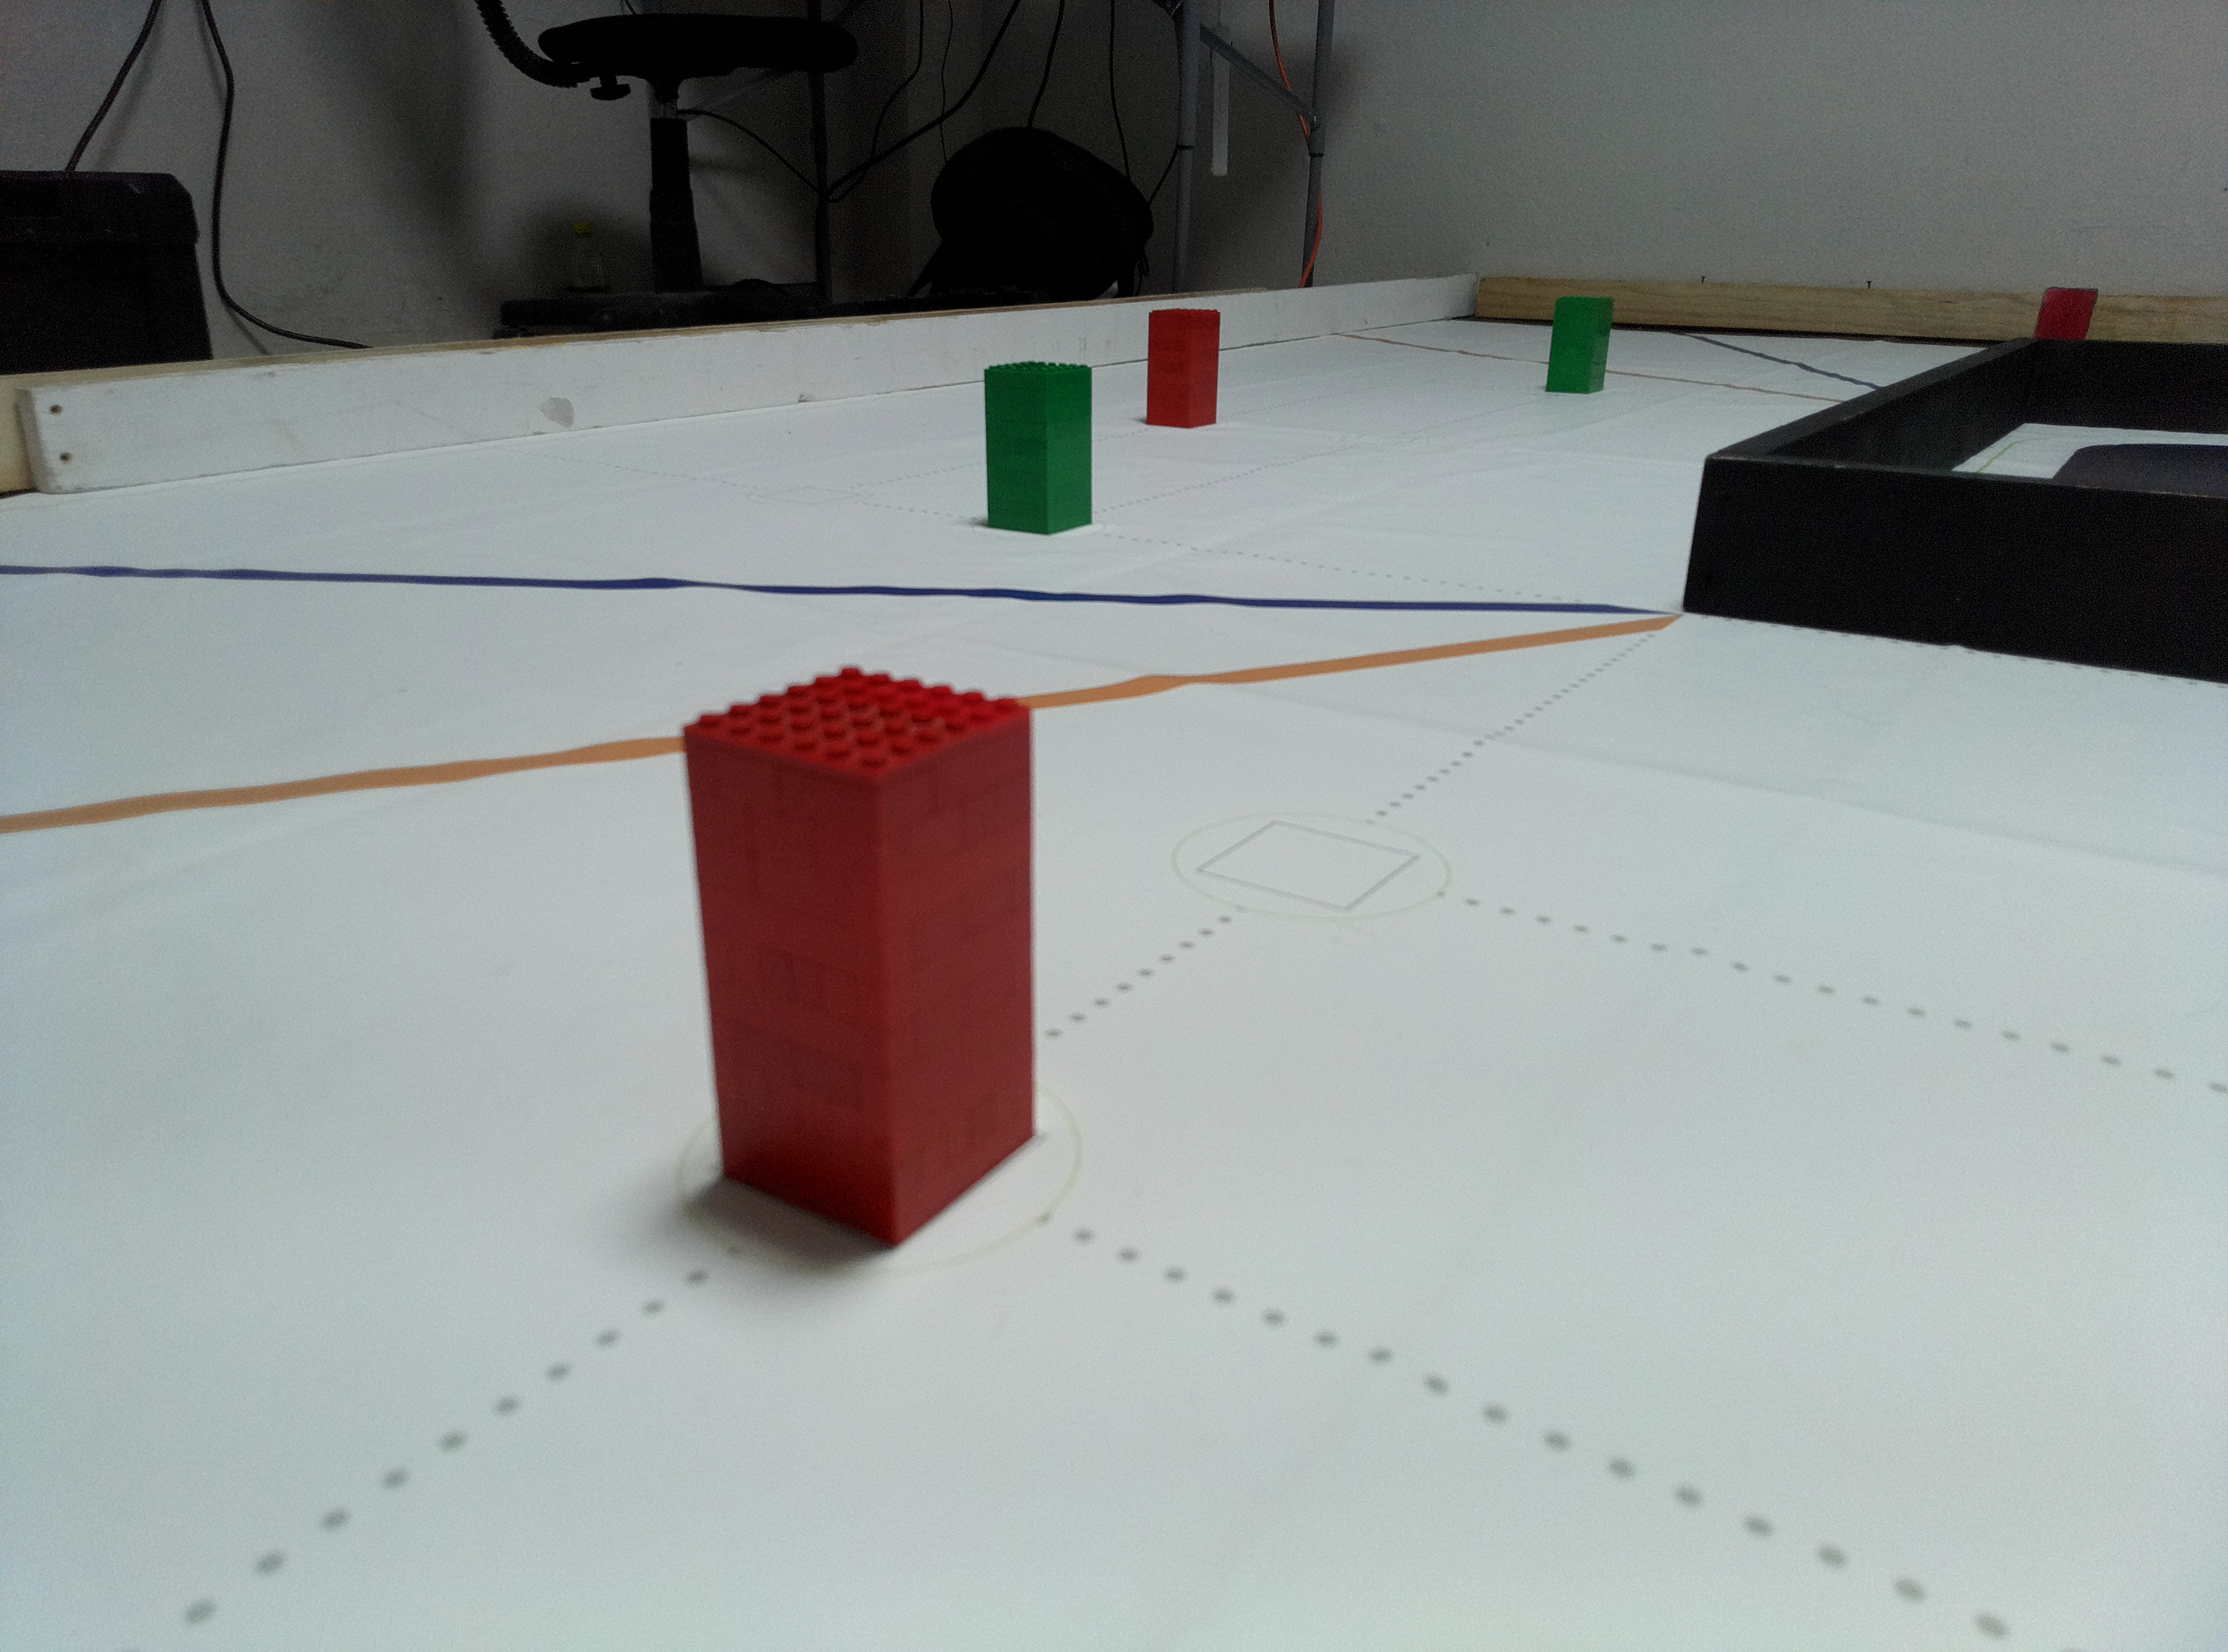greenbox: (982, 359, 1097, 536), (1543, 295, 1614, 396)
redbox: (684, 658, 1041, 1251), (1145, 307, 1225, 430), (2030, 286, 2101, 340)
